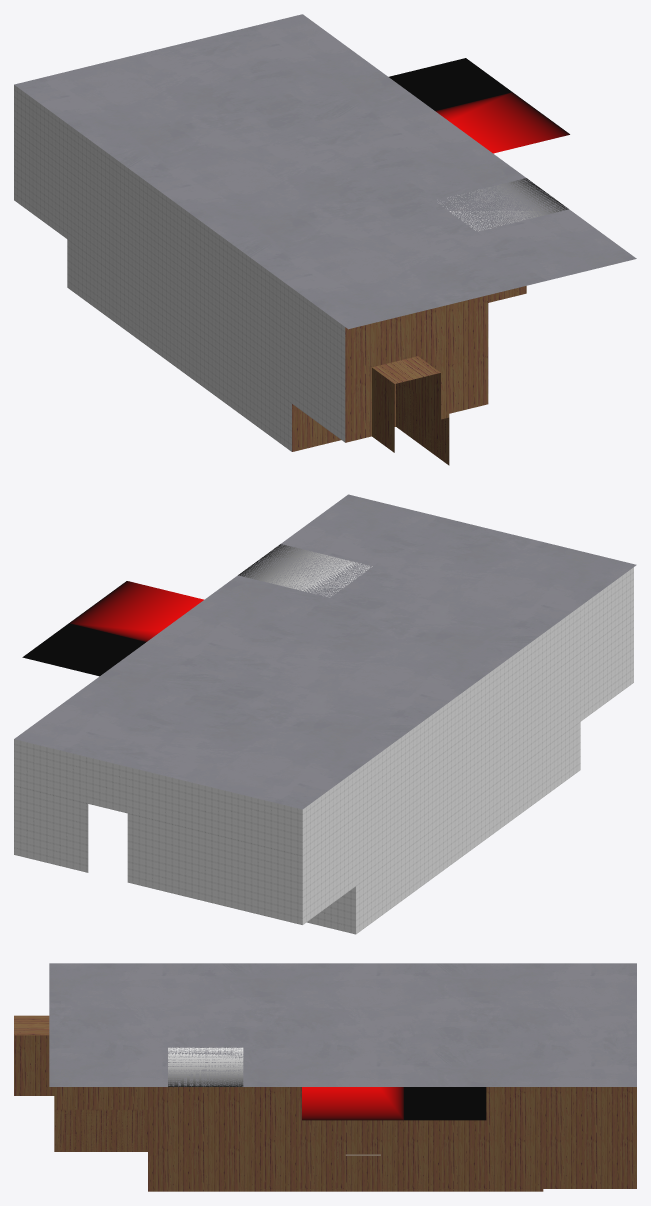
3 views of the same model, one above another, from view 1: azimuth 30°, elevation 25°; view 2: azimuth 150°, elevation 25°; view 3: azimuth 270°, elevation 25° (orthographic). The views are drawn at different scales.
Visible parts, largest first — view 1: Cube; view 2: Cube; view 3: Cube.
Boxes of the visible parts, bbox=[...] form: Cube: bbox=[14, 14, 636, 465]; Cube: bbox=[14, 494, 636, 934]; Cube: bbox=[14, 963, 636, 1191].
Bounding box in the file's own units: 55.5 × 23.75 × 93.
